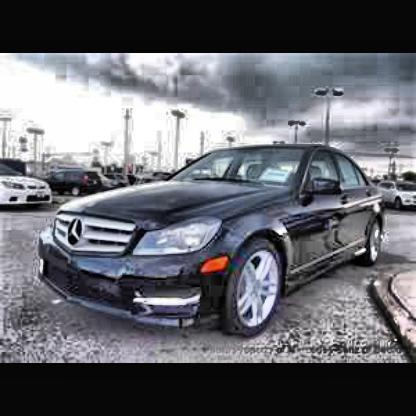Mercedes-Benz C-Class Sedan 2012: (39, 144, 387, 340)
